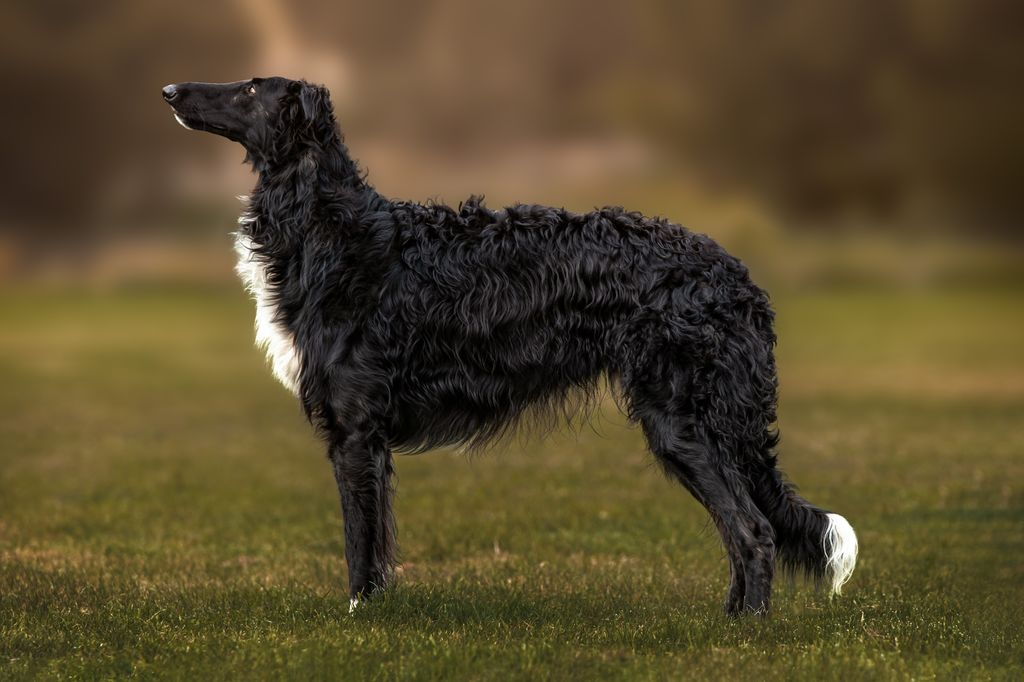borzoi: (156, 71, 868, 627)
